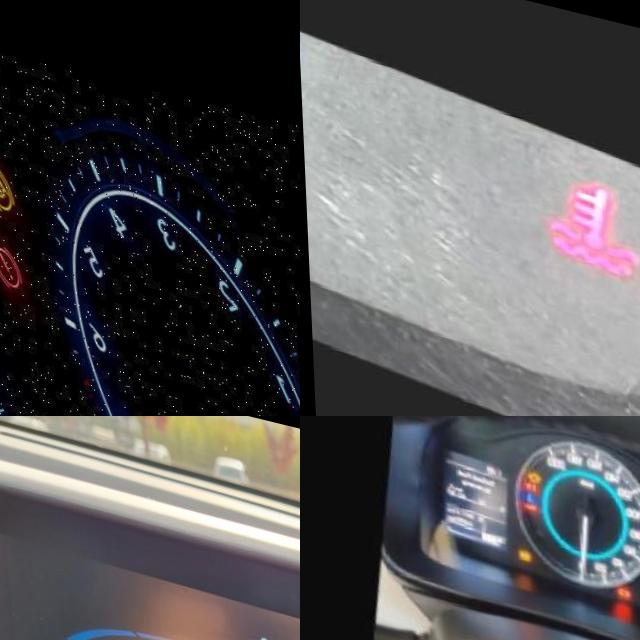Engine cooling system: (542, 153, 640, 280), (523, 475, 535, 489)
